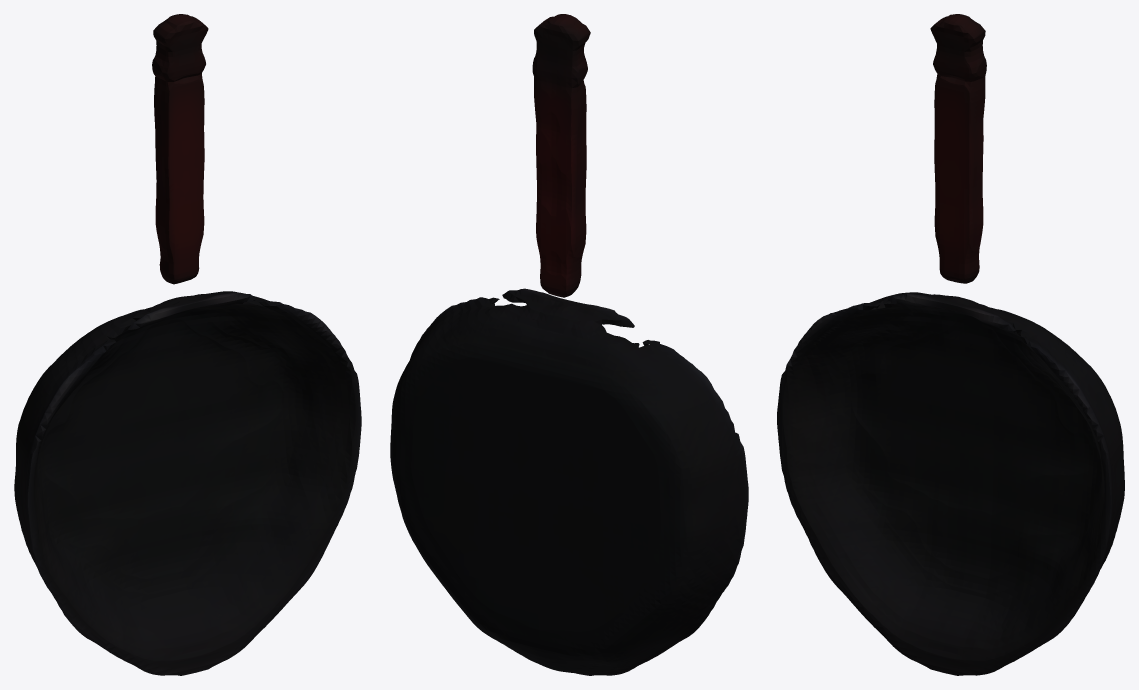
Rendered from a frying pan.obj.
3 renders of one model, left to right at view 1: azimuth 30°, elevation 25°; view 2: azimuth 150°, elevation 25°; view 3: azimuth 330°, elevation 25°, orthographic. The views are drawn at different scales.
Bounding box in the file's own units: 1.07 × 1.98 × 0.2237.
